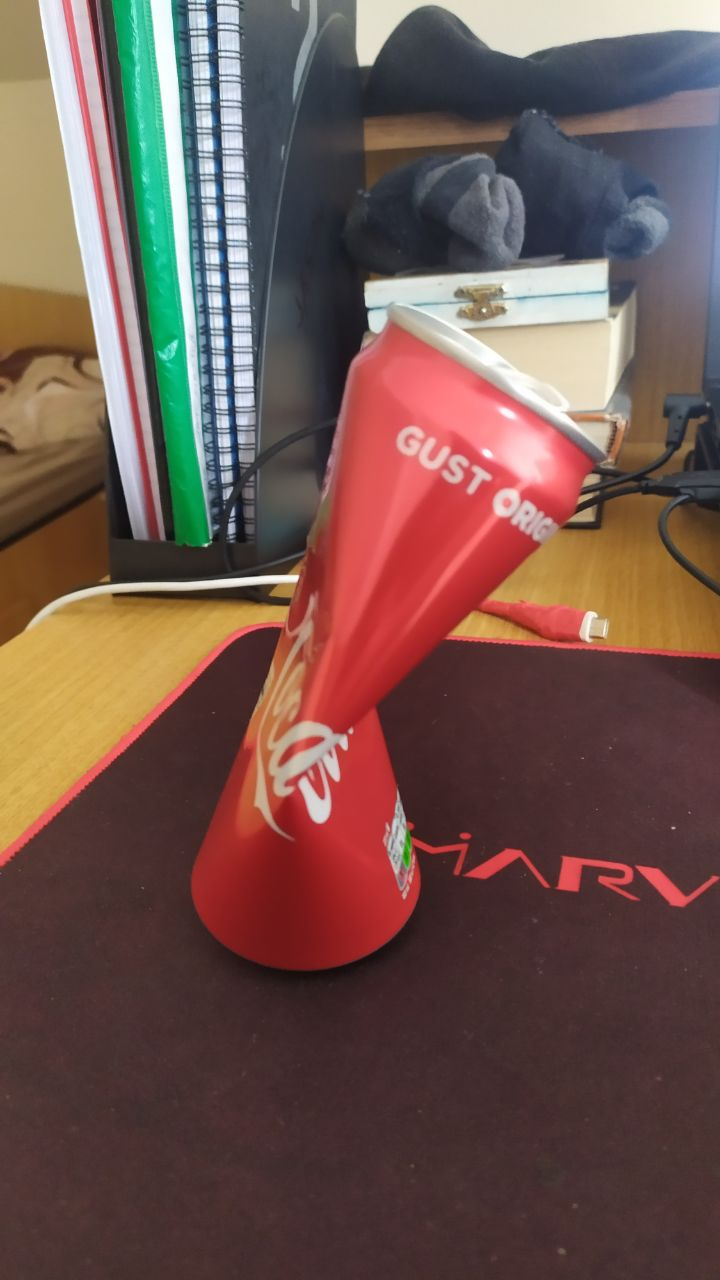Can: (181, 305, 616, 973)
